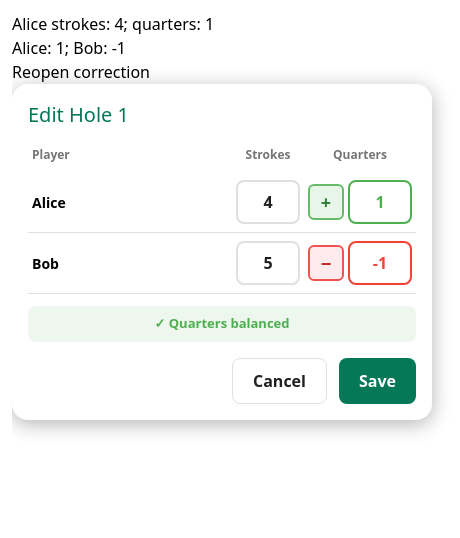
correction save through the real handler and editor › does not publish an unconfirmed result {"success":true}
Step 1. Replace the text in the field named "Alice strokes" with "6" → x=268, y=202, box [236, 180, 300, 224]
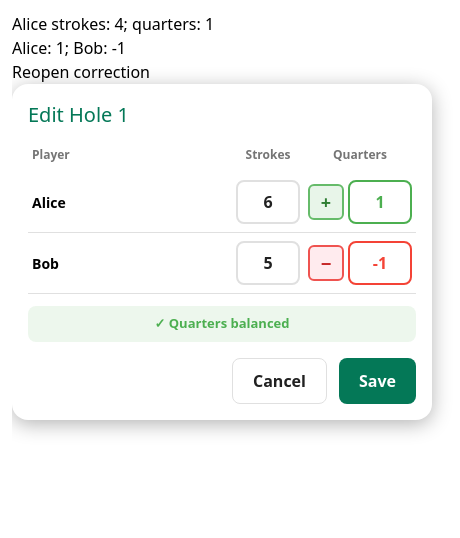
Step 2. Replace the text in the field named "Alice quarters" with "2" → x=380, y=202, box [348, 180, 412, 224]
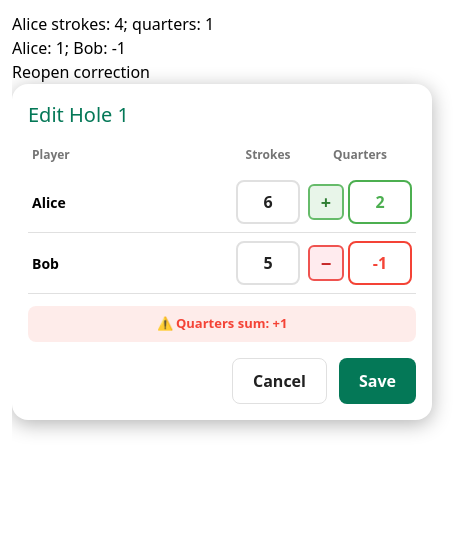
Step 3. Replace the text in the field named "Bob quarters" with "-2" → x=380, y=263, box [348, 241, 412, 285]
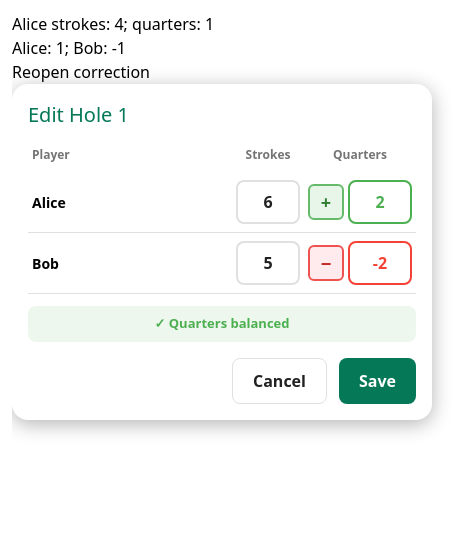
Step 4. Click the button "Save" → x=378, y=380, box [339, 358, 416, 404]
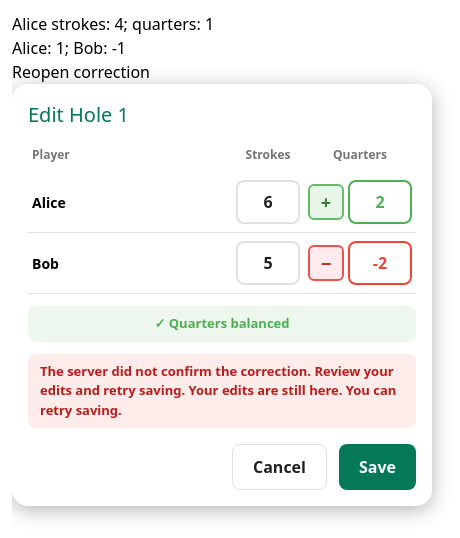
Expected: the text named "History" reads "Alice strokes: 4; quarters: 1", [12, 13, 214, 35]
Now the message shows "retry", box [40, 362, 394, 399]
